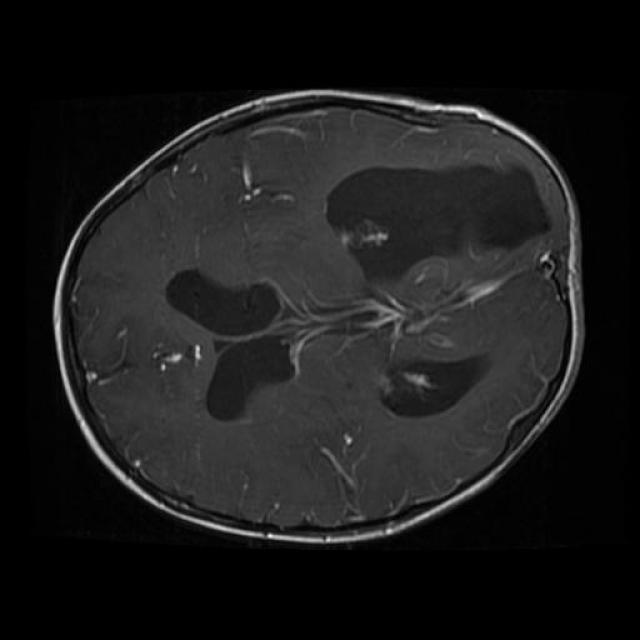Glioma: (328, 166, 552, 281)
